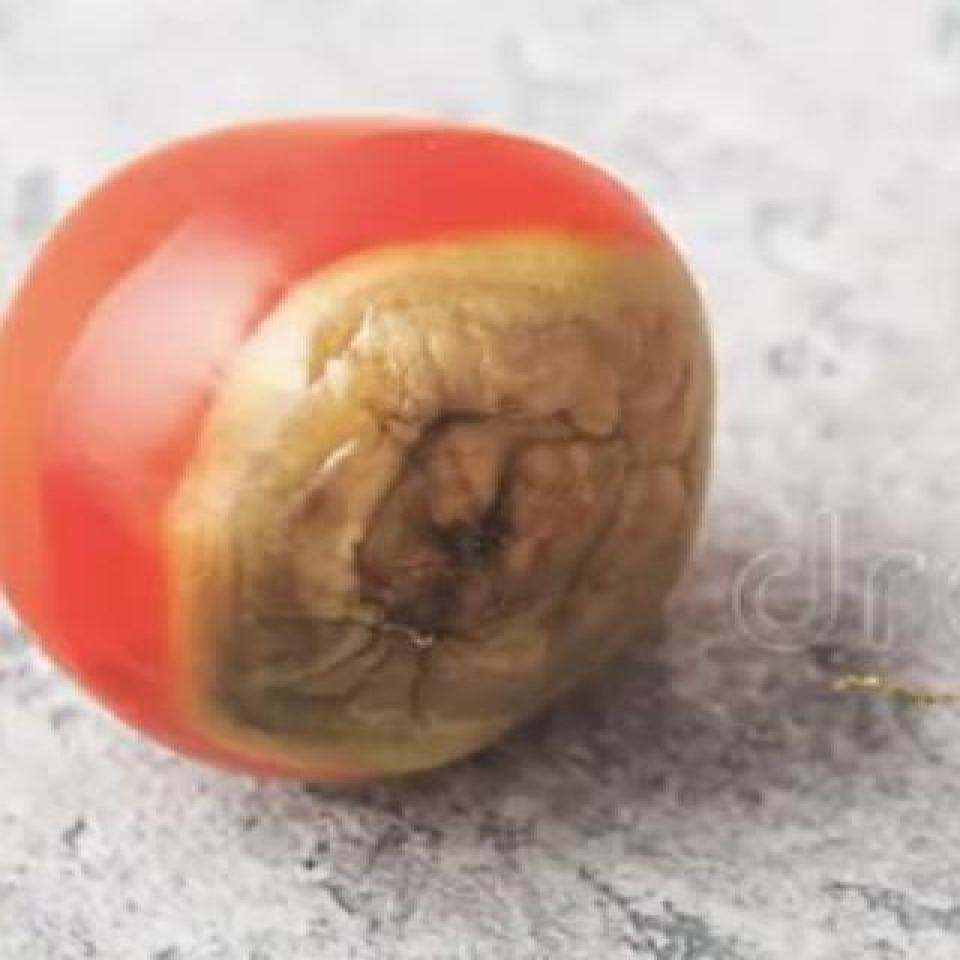Blossom_end_rot: (162, 226, 711, 774)
